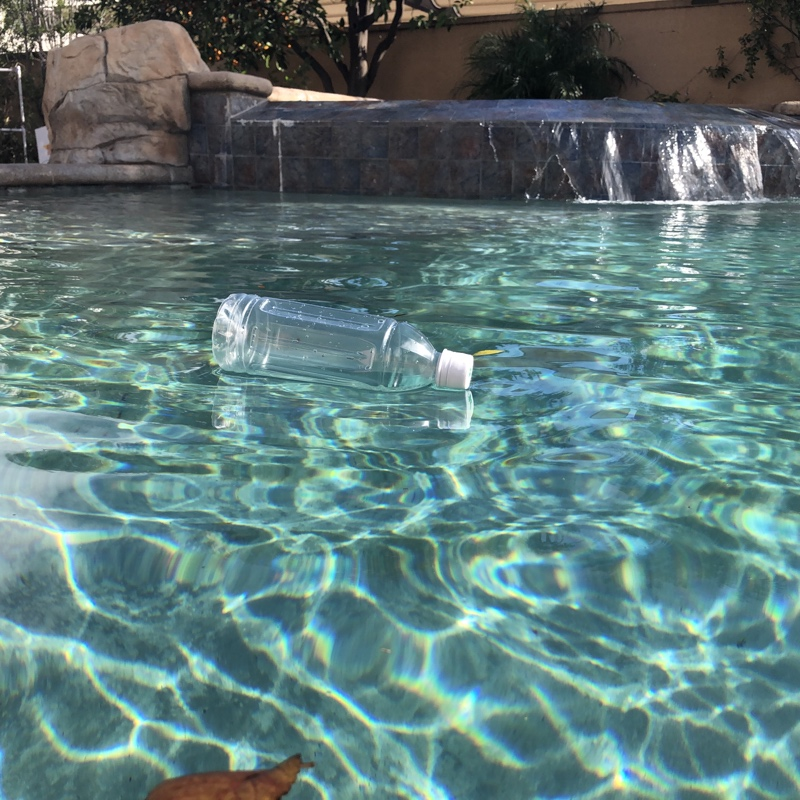Plastic Bottle: (202, 286, 478, 400)
